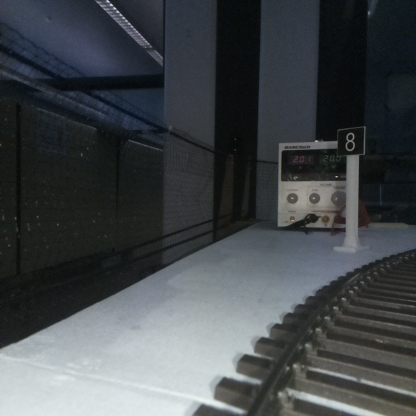black-info-8: (338, 129, 363, 251)
